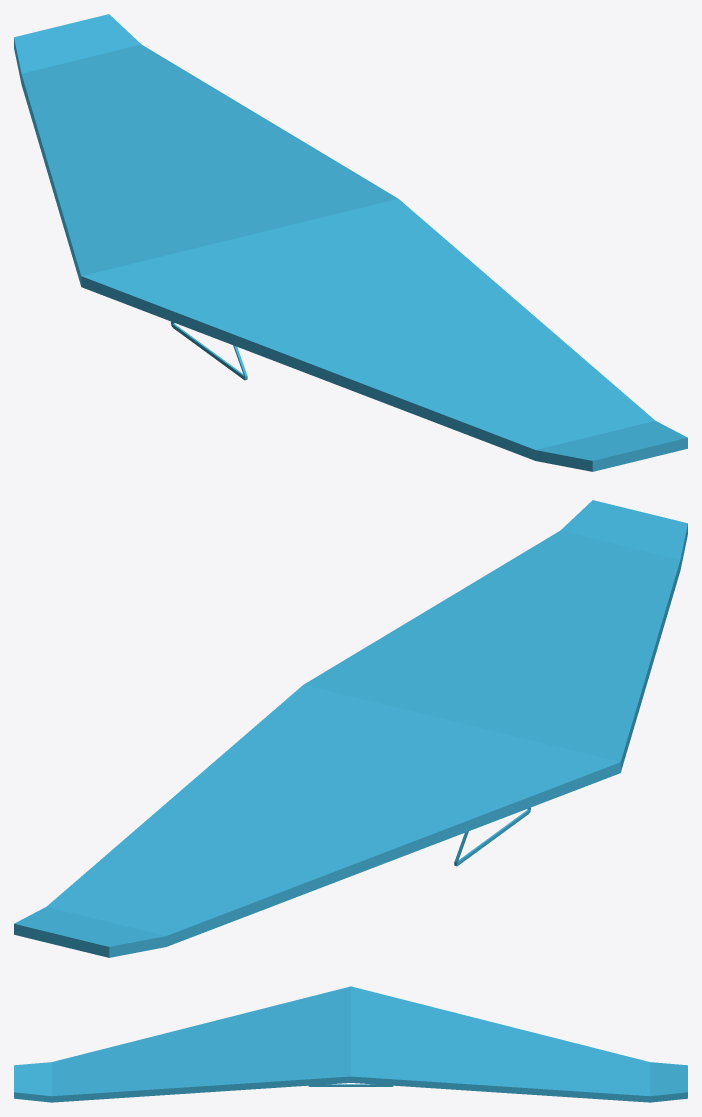
Rendered from handGlider.fbx.
3 renders of one model, top to bottom at view 1: azimuth 30°, elevation 25°; view 2: azimuth 150°, elevation 25°; view 3: azimuth 270°, elevation 25°, orthographic. The views are drawn at different scales.
Visible parts, largest first — view 1: Cube; view 2: Cube; view 3: Cube.
Part boxes in pixels (left/top/right/bottom): Cube: left=14, top=14, right=687, bottom=471; Cube: left=14, top=500, right=687, bottom=957; Cube: left=14, top=986, right=687, bottom=1102.
Bounding box in the file's own units: 260 × 85.61 × 821.
